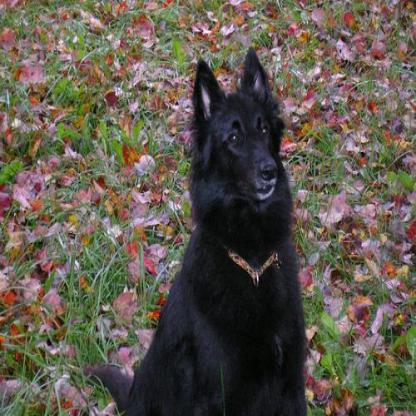groenendael: (88, 42, 306, 413)
